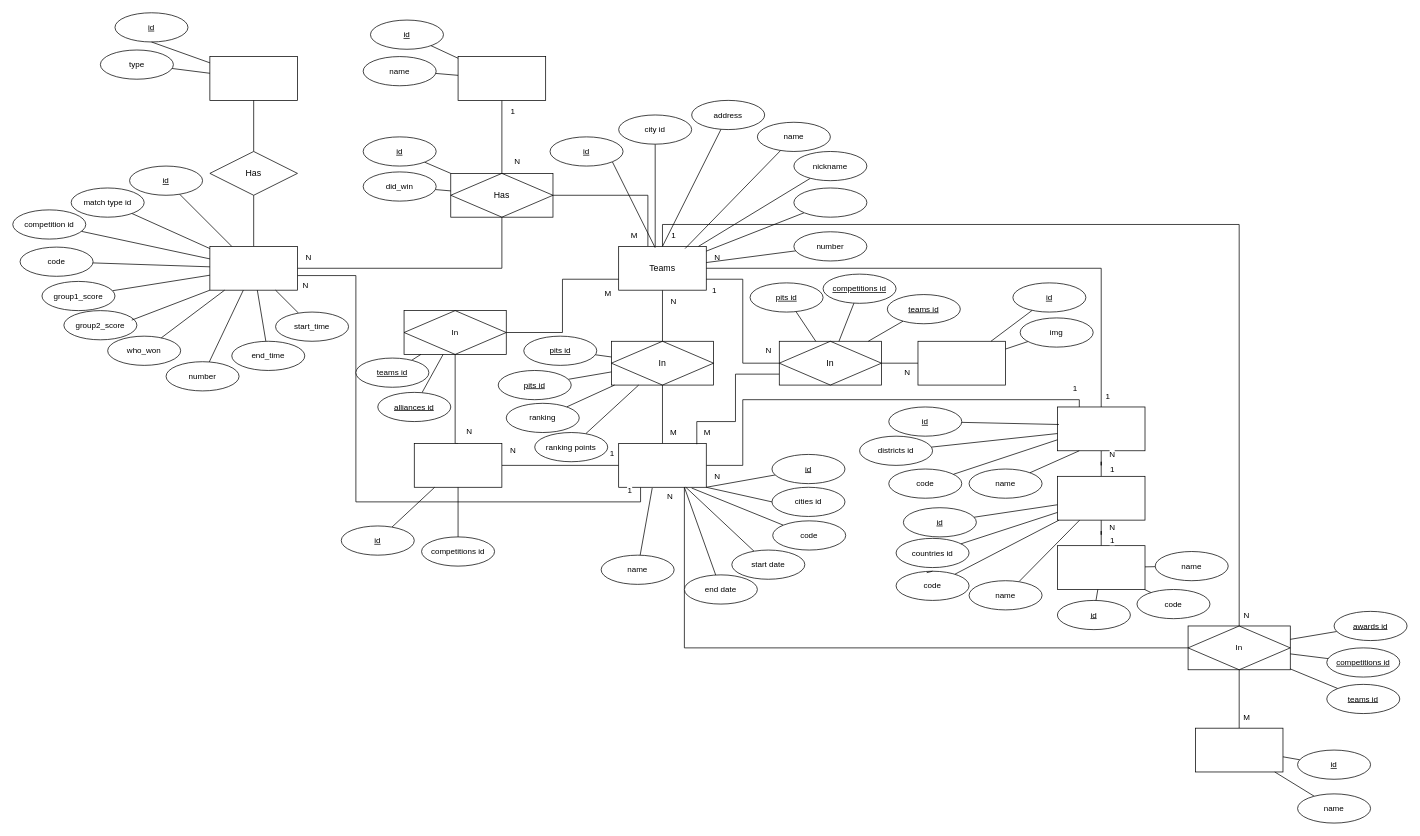
This 1420x836 diagram has some shape labels left out. The shapes that lost their labels are listed below. From the top down, each one's box as (x1, y1, x2, y2) in pixels, then its label:
(209, 56, 297, 100): Match Types
(457, 56, 546, 100): Groups
(793, 187, 867, 217): rookie year
(209, 246, 297, 290): Matches
(917, 341, 1006, 385): Pits
(1057, 406, 1145, 451): Cities
(414, 443, 502, 487): Alliances
(618, 443, 706, 487): Competitions
(1057, 476, 1145, 520): Districts
(1057, 545, 1145, 589): Countries
(1195, 727, 1283, 772): Awards
